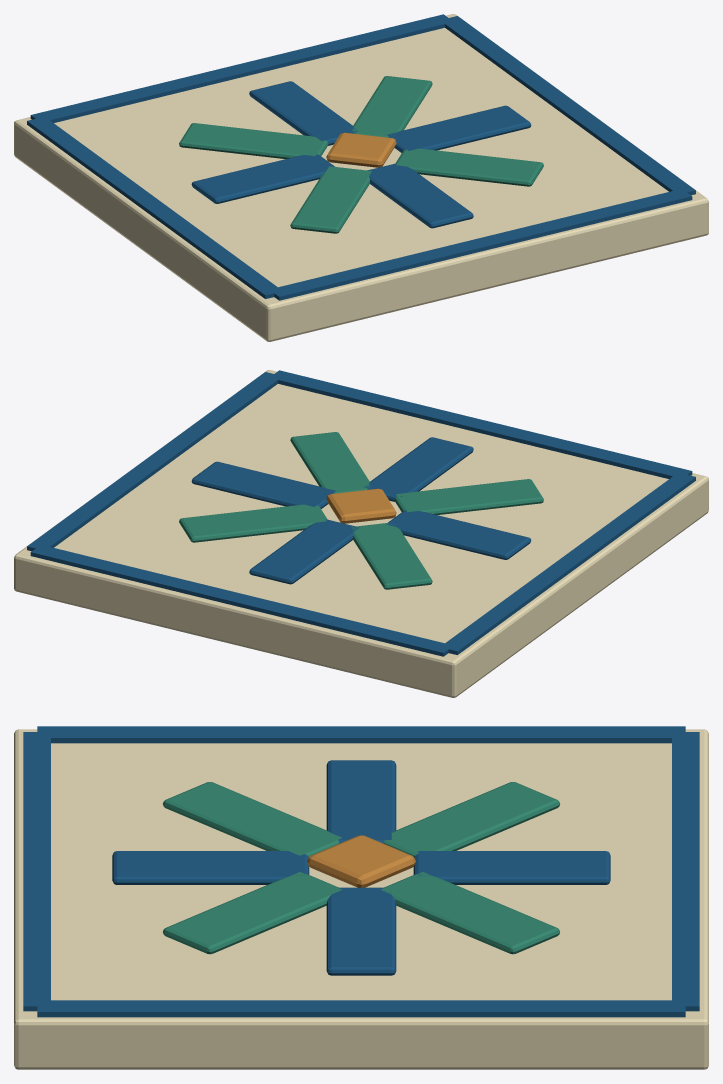
3 views of the same model, one above another, from view 1: azimuth 30°, elevation 25°; view 2: azimuth 150°, elevation 25°; view 3: azimuth 270°, elevation 25° (orthographic). The views are drawn at different scales.
Parts seen in each view (by area): view 1: TILE_Base, BORDER.001, BORDER.002, BORDER.003, BORDER, PETAL_7, PETAL_4, PETAL_3, PETAL_0, PETAL_6, PETAL_5, PETAL_2 (+2 smaller); view 2: TILE_Base, BORDER.002, BORDER.001, BORDER.003, BORDER, PETAL_1, PETAL_4, PETAL_5, PETAL_0, PETAL_2, PETAL_3, PETAL_6 (+2 smaller); view 3: TILE_Base, BORDER, BORDER.003, BORDER.001, BORDER.002, PETAL_7, PETAL_1, PETAL_2, PETAL_6, PETAL_5, PETAL_0, PETAL_3 (+2 smaller).
Part boxes in pixels (left/top/right/bottom): TILE_Base: left=14, top=14, right=708, bottom=341; BORDER.001: left=269, top=189, right=692, bottom=300; BORDER.002: left=30, top=14, right=453, bottom=122; BORDER.003: left=27, top=118, right=277, bottom=298; BORDER: left=440, top=16, right=695, bottom=195; PETAL_7: left=395, top=148, right=543, bottom=186; PETAL_4: left=191, top=154, right=334, bottom=203; PETAL_3: left=179, top=123, right=328, bottom=158; PETAL_0: left=387, top=105, right=531, bottom=152; PETAL_6: left=367, top=163, right=473, bottom=228; PETAL_5: left=290, top=166, right=371, bottom=233; PETAL_2: left=249, top=81, right=357, bottom=145; TILE_Base: left=14, top=370, right=708, bottom=697; BORDER.002: left=30, top=545, right=453, bottom=656; BORDER.001: left=269, top=370, right=692, bottom=478; BORDER.003: left=445, top=473, right=695, bottom=654; BORDER: left=27, top=372, right=282, bottom=551; PETAL_1: left=179, top=504, right=327, bottom=542; PETAL_4: left=387, top=510, right=531, bottom=559; PETAL_5: left=394, top=479, right=543, bottom=514; PETAL_0: left=191, top=461, right=335, bottom=508; PETAL_2: left=249, top=519, right=359, bottom=584; PETAL_3: left=351, top=523, right=432, bottom=589; PETAL_6: left=364, top=437, right=473, bottom=501; TILE_Base: left=14, top=729, right=708, bottom=1069; BORDER: left=37, top=1000, right=685, bottom=1017; BORDER.003: left=37, top=726, right=685, bottom=743; BORDER.001: left=23, top=732, right=50, bottom=1011; BORDER.002: left=672, top=732, right=699, bottom=1011; PETAL_7: left=163, top=872, right=342, bottom=954; PETAL_1: left=380, top=872, right=559, bottom=954; PETAL_2: left=413, top=851, right=610, bottom=884; PETAL_6: left=112, top=851, right=309, bottom=884; PETAL_5: left=163, top=782, right=341, bottom=857; PETAL_0: left=326, top=887, right=396, bottom=975; PETAL_3: left=383, top=782, right=559, bottom=857.
Bounding box in the file's own units: 0.3 × 0.033 × 0.3.
